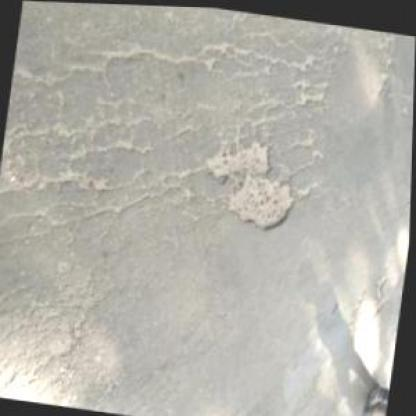pothole: (196, 129, 305, 233)
